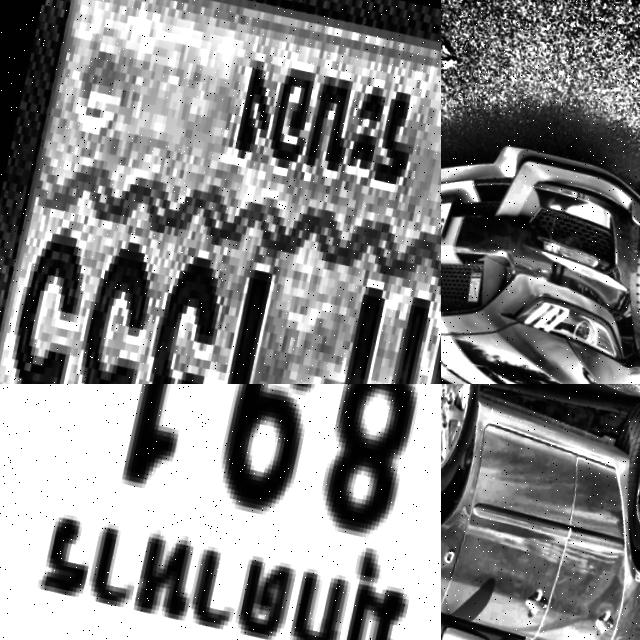license-plate: (0, 0, 441, 384), (0, 384, 441, 640), (441, 177, 457, 249)
